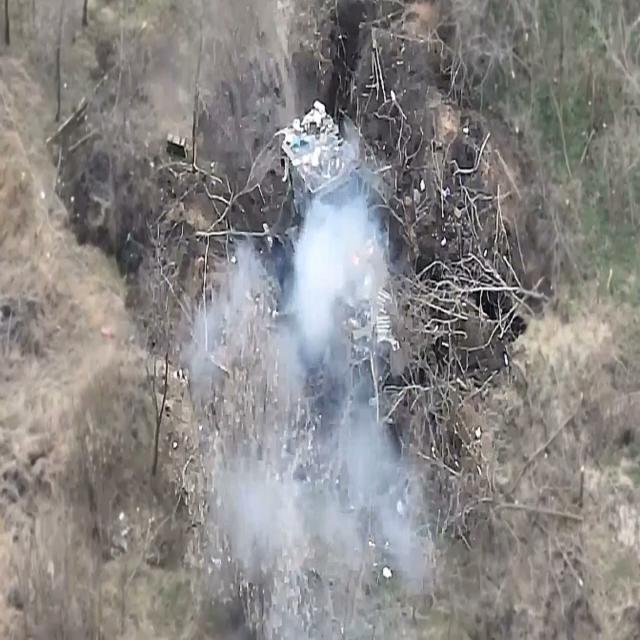cars: (250, 100, 436, 397)
